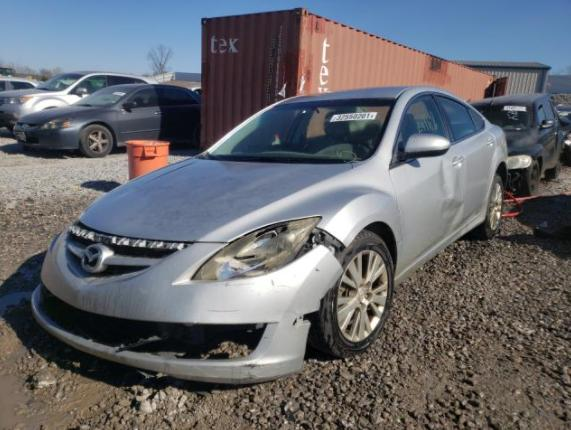Back-door: (431, 90, 497, 224)
Back-wheel: (473, 172, 504, 238)
Back-window: (435, 95, 483, 140)
Fender: (318, 168, 402, 279)
Front-bumper: (31, 221, 344, 384)
Front-door: (383, 90, 466, 272)
Front-wheel: (304, 228, 394, 356)
Front-window: (398, 94, 451, 151)
Grille: (66, 230, 184, 283)
Headlight: (190, 215, 323, 280), (48, 220, 76, 252)
Hood: (75, 159, 370, 243)
Mirror: (398, 134, 450, 160)
Quarter-panel: (487, 123, 508, 170)
Rocker-panel: (394, 209, 486, 288)
Roof: (270, 86, 423, 107)
Windshield: (205, 99, 397, 163)
